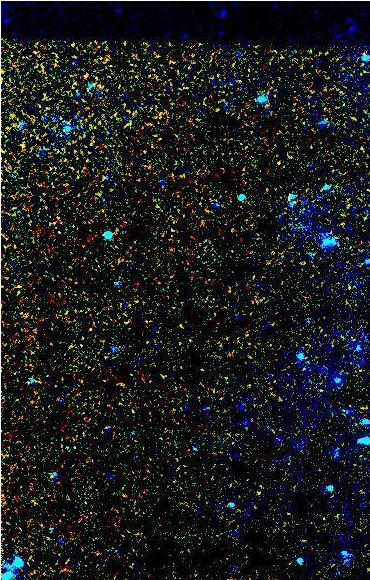star: (243, 474, 273, 504)
